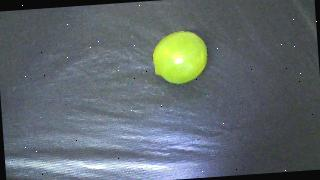LOCAL: (151, 29, 209, 85)
